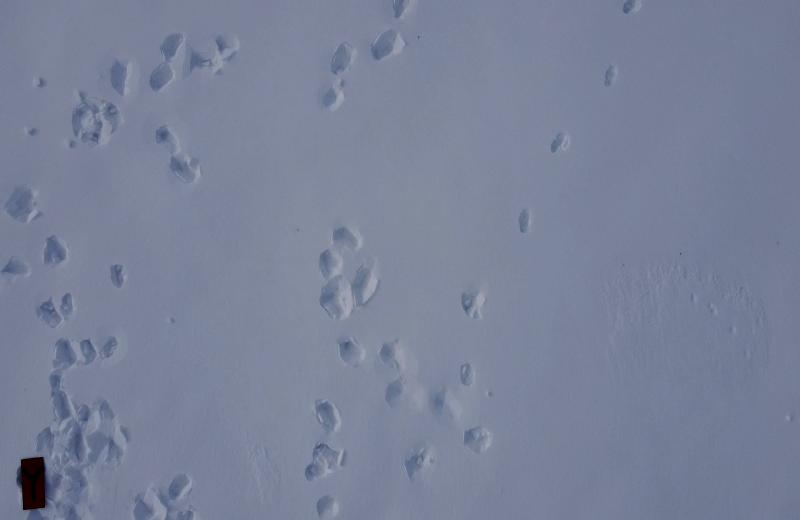Rectangle: (18, 453, 49, 513)
